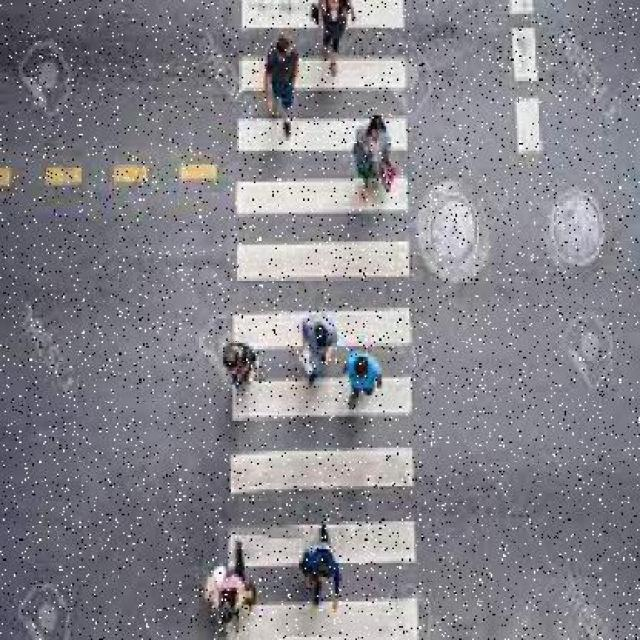Pedestrian crosswalk: (177, 0, 446, 637)
